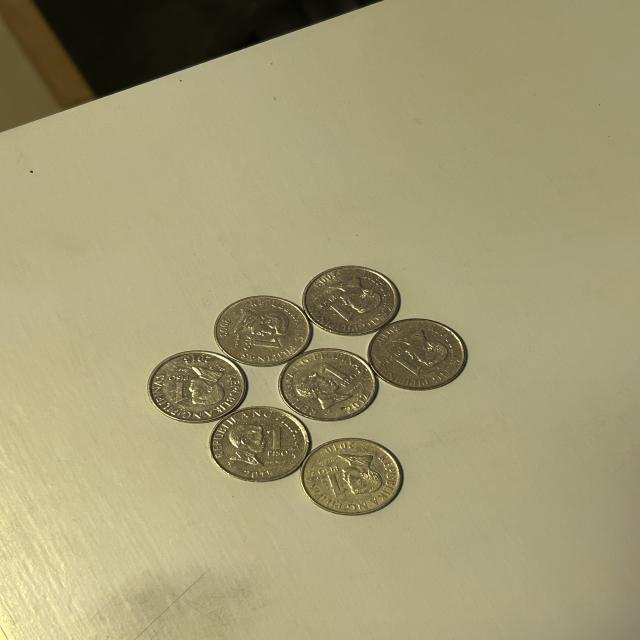1_Old_Front: (380, 350, 431, 384), (315, 464, 352, 502), (317, 363, 362, 392), (316, 294, 356, 326), (238, 332, 287, 358), (164, 372, 192, 406), (264, 425, 288, 461)
